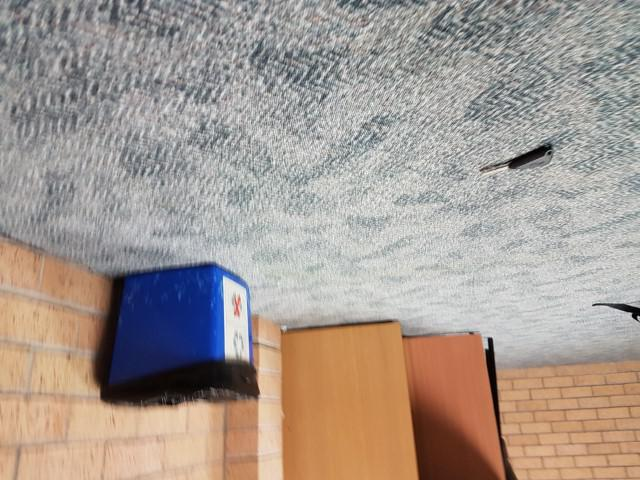key: (476, 140, 558, 181)
